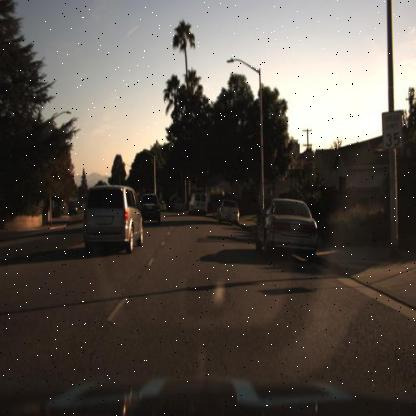car: (80, 183, 144, 254), (256, 193, 320, 259), (138, 192, 160, 226), (187, 190, 208, 216), (219, 200, 240, 223)
